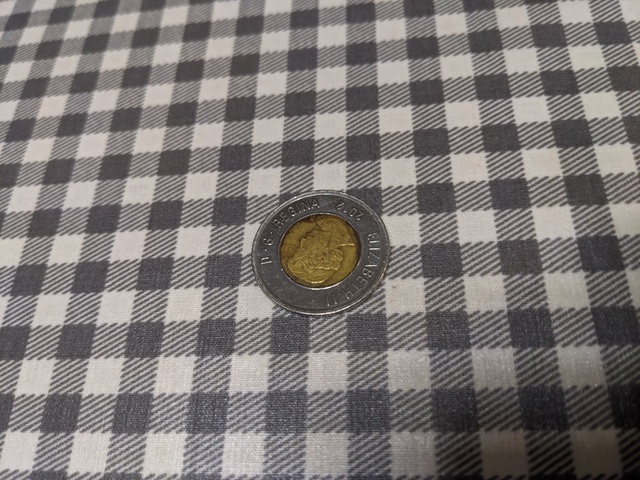twonie: (241, 182, 396, 320)
